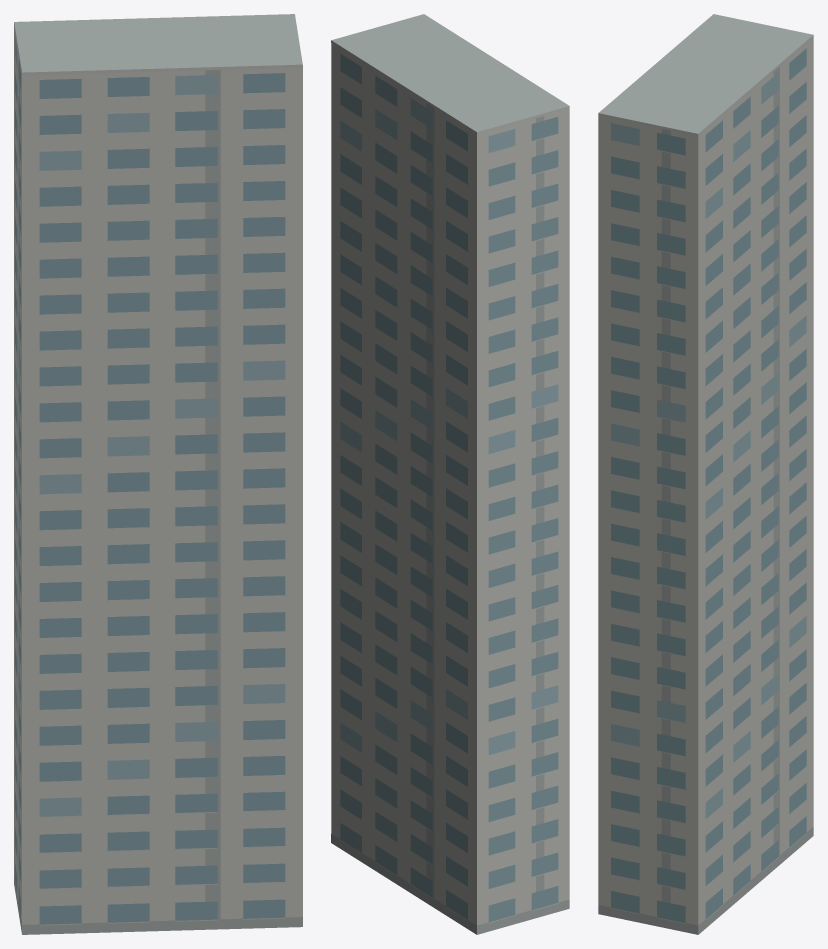
File: residential-ba5a442d-8dcd-48a5-98e2-2d5ae061d45c.glb
The picture shows the model from 3 angles, left to right: view 1: azimuth 30°, elevation 25°; view 2: azimuth 150°, elevation 25°; view 3: azimuth 270°, elevation 25°; orthographic projection. The views are drawn at different scales.
Parts seen in each view (by area): view 1: residential-ba5a442d-8dcd-48a5-98e2-2d5ae061d45c.tmp; view 2: residential-ba5a442d-8dcd-48a5-98e2-2d5ae061d45c.tmp; view 3: residential-ba5a442d-8dcd-48a5-98e2-2d5ae061d45c.tmp.
Part boxes in pixels (left/top/right/bottom): residential-ba5a442d-8dcd-48a5-98e2-2d5ae061d45c.tmp: left=14, top=14, right=302, bottom=934; residential-ba5a442d-8dcd-48a5-98e2-2d5ae061d45c.tmp: left=331, top=14, right=569, bottom=934; residential-ba5a442d-8dcd-48a5-98e2-2d5ae061d45c.tmp: left=598, top=14, right=813, bottom=934.
Bounding box in the file's own units: 23.51 × 73.2 × 17.84.
